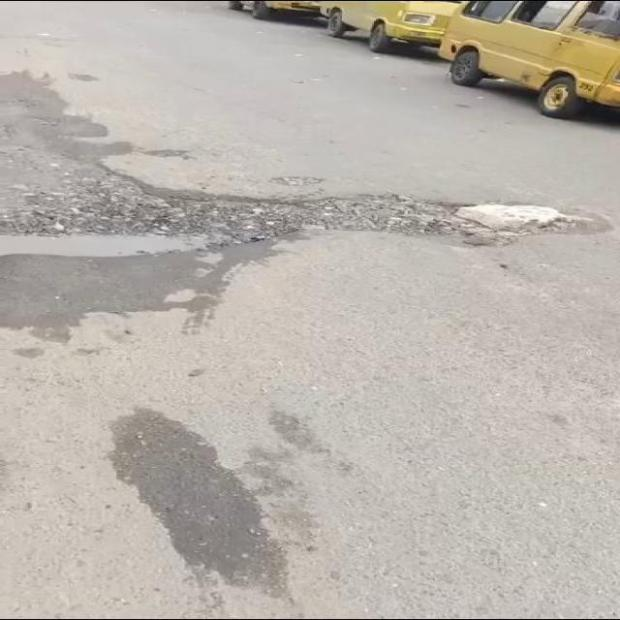lubang: (0, 172, 602, 326)
